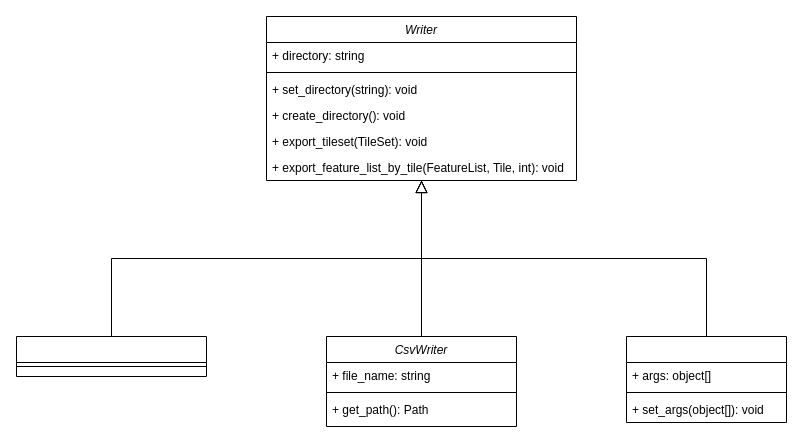
The diagram is 803 pixels wide and 443 high, and some of its shapes have lost their labels. The shapes that lost their labels are listed below. From the top down, each one's box as (x1, y1, x2, y2) in pixels, then its label:
(16, 336, 206, 376): JsonWriter
(626, 336, 786, 422): TileWriter
